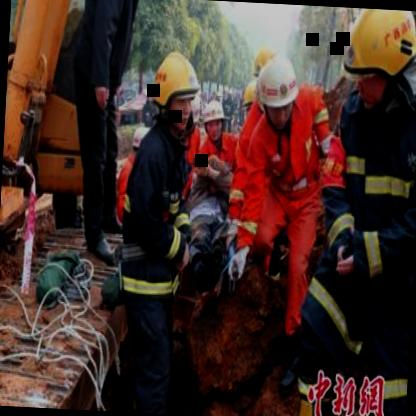helmet: (337, 7, 416, 120), (148, 46, 206, 135), (252, 51, 302, 130), (198, 94, 228, 140)
